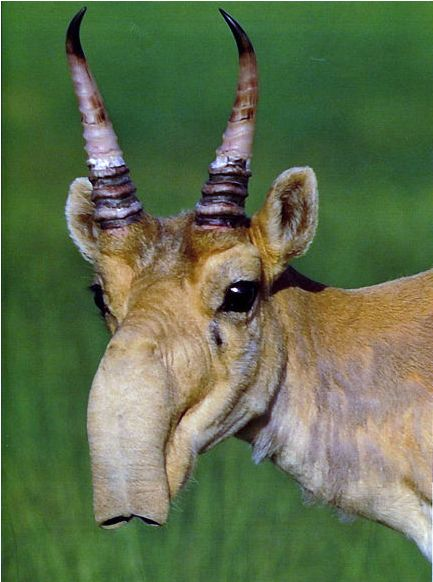saiga: (56, 6, 433, 582)
